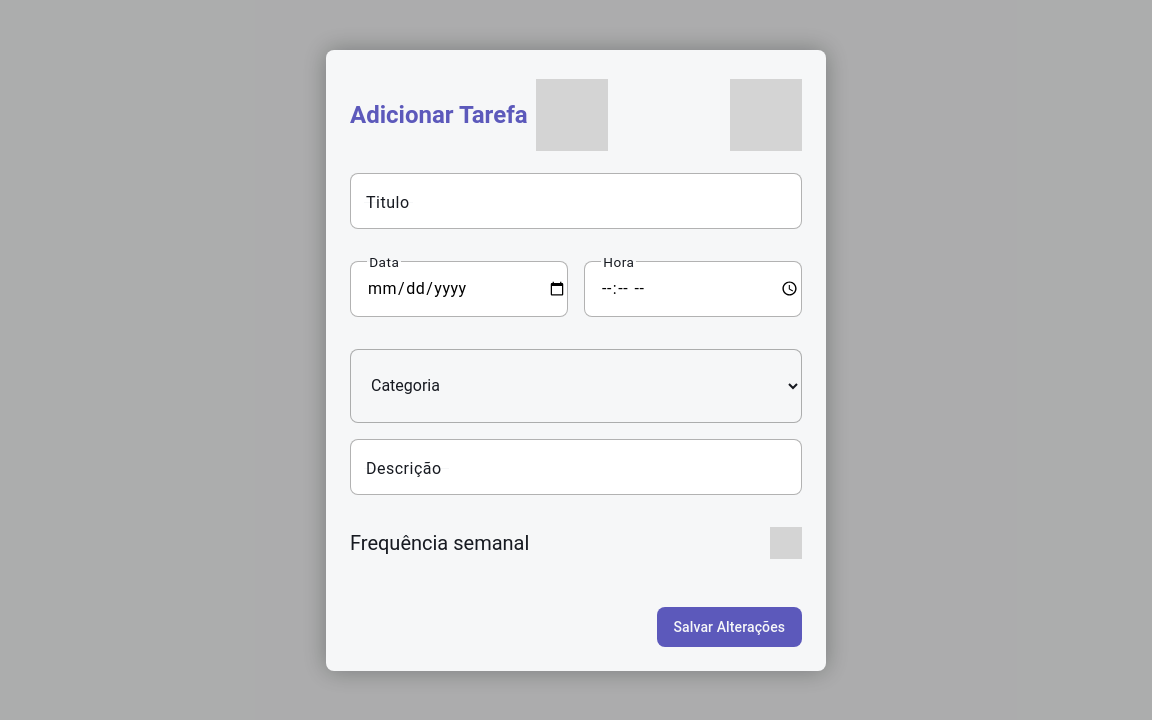
<TaskForm/> › should render error message for required fields
Step 1. Click the button "Salvar Alterações" → click(729, 626), box [657,606,802,646]
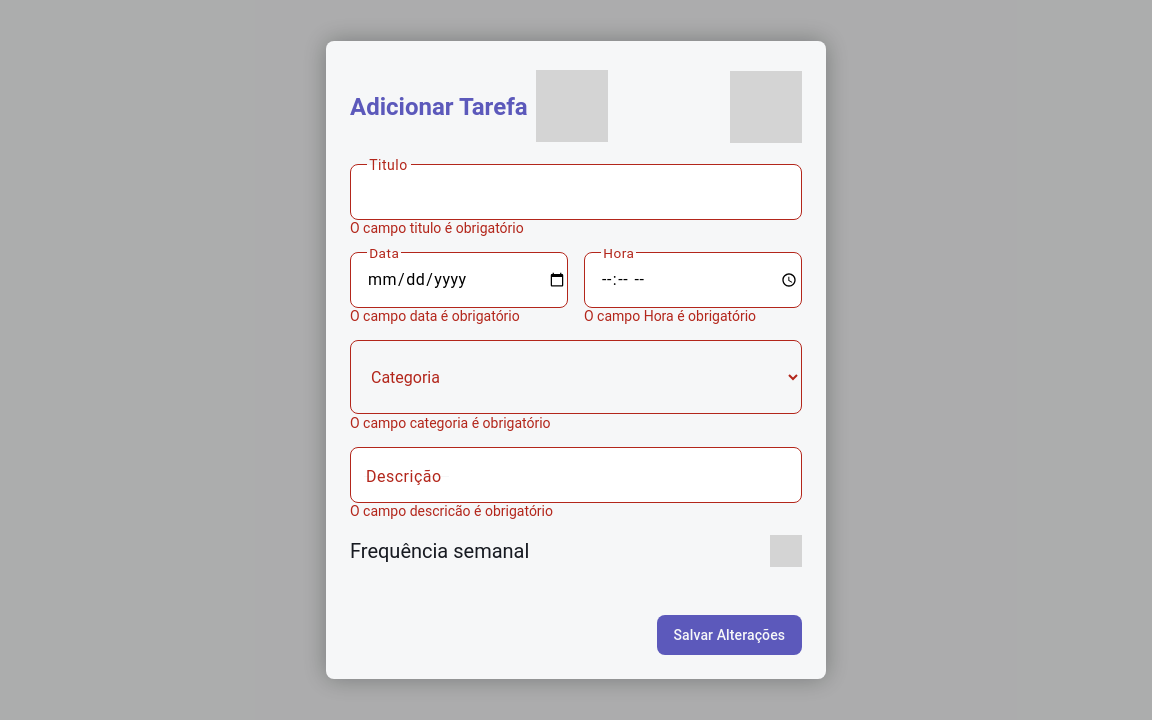
Result: the text "O campo titulo é obrigatório" is shown at [350,220,524,236]
Result: the text "O campo data é obrigatório" is shown at [350,308,520,324]
Result: the text "O campo Hora é obrigatório" is shown at [584,308,756,324]
